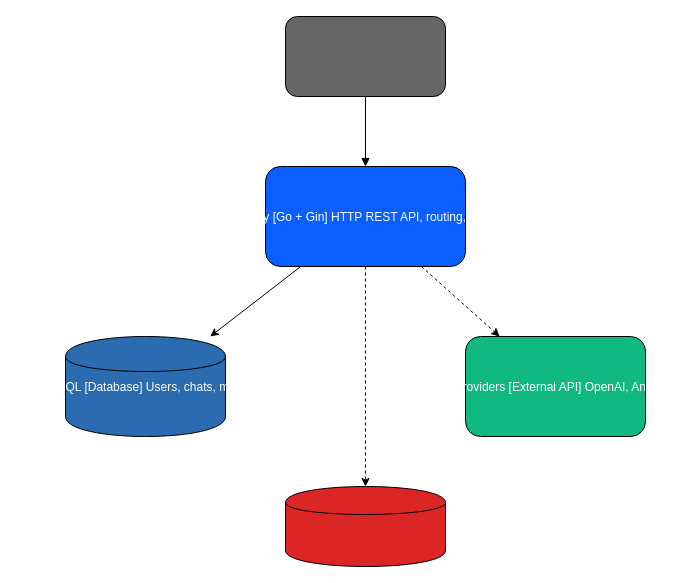
Some shapes in this 699 by 583 pixel diagram are drawn without their labels. The shapes that lost their labels are listed below. From the top down, each one's centre as x and y in pixels, then its label:
At (365,56): "Web Frontend [Single Page App]".
At (365,526): "Redis Cache [Cache] Sessions, rate limiting".
